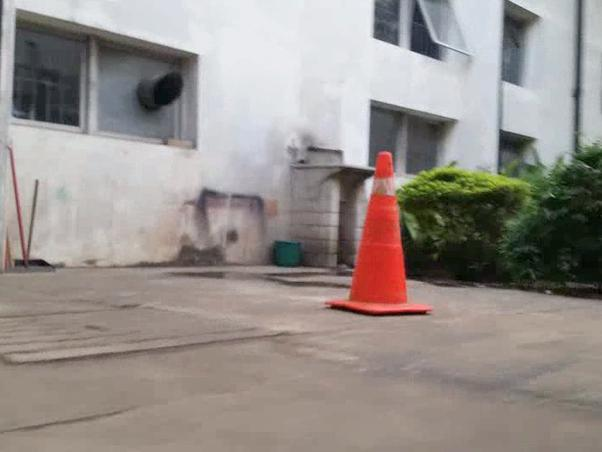0 cone: (325, 152, 432, 314)
